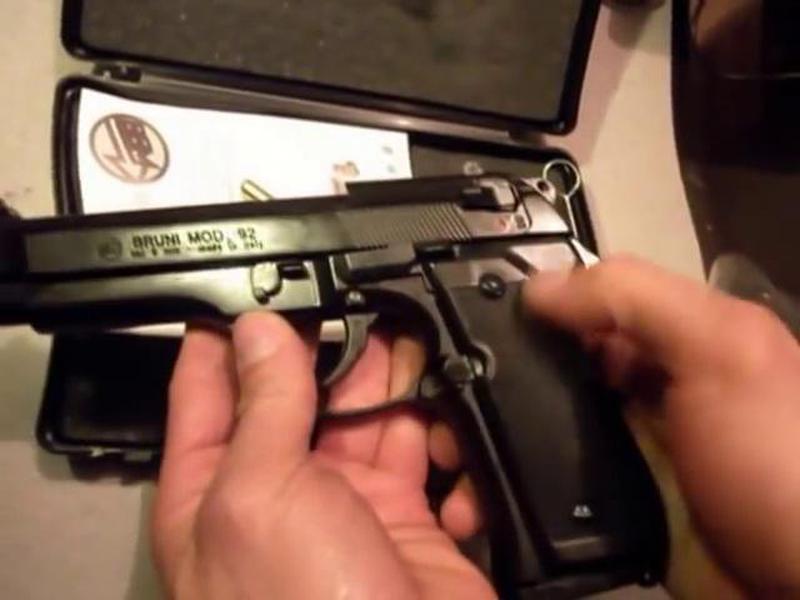Pistola: (23, 151, 707, 573)
